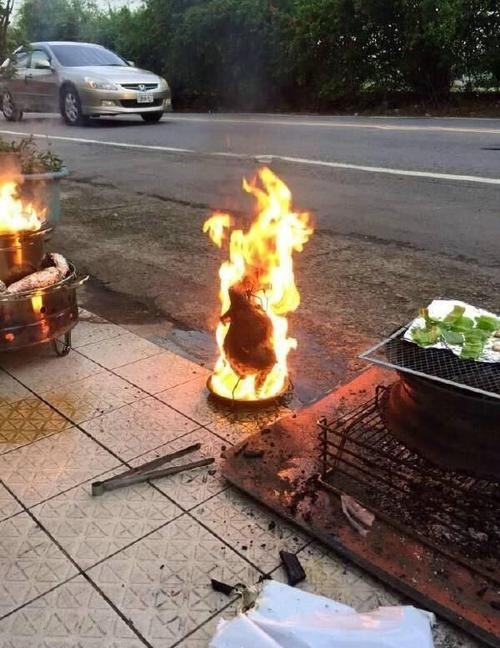fire: (204, 163, 318, 402), (0, 177, 46, 234)
